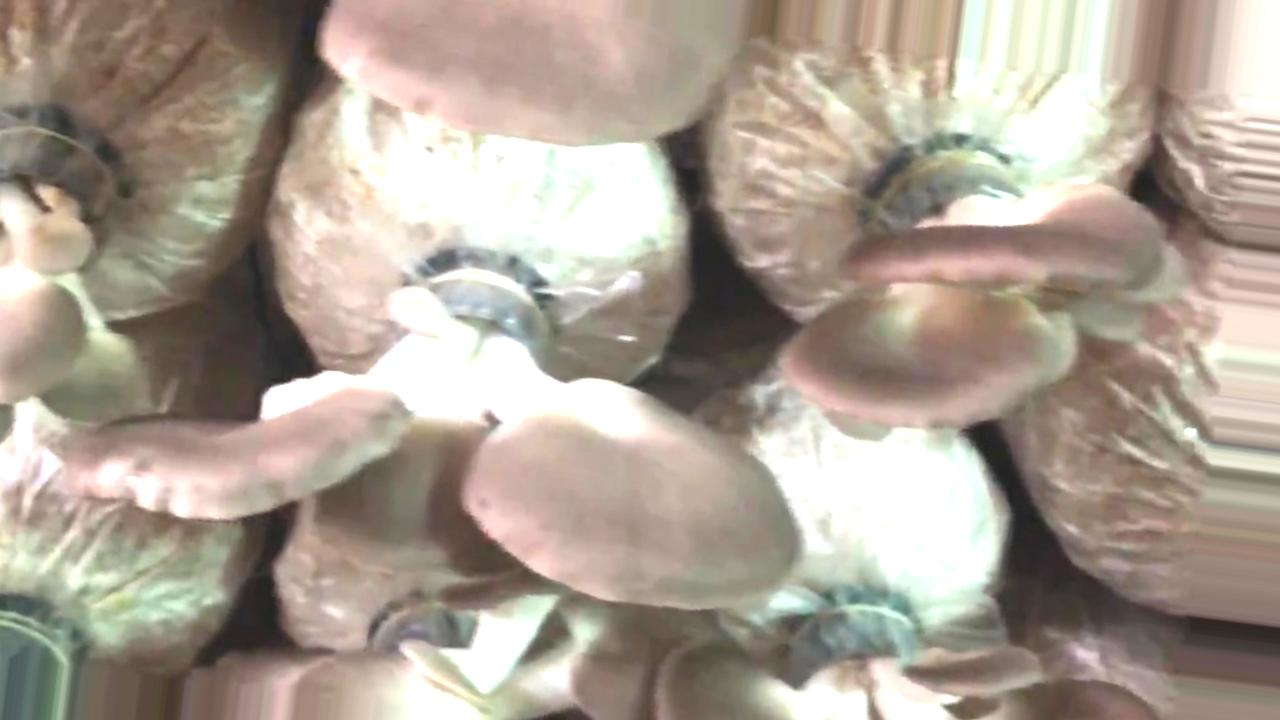nam: (63, 241, 806, 618), (781, 131, 1160, 431), (323, 2, 756, 150), (5, 87, 153, 428)
